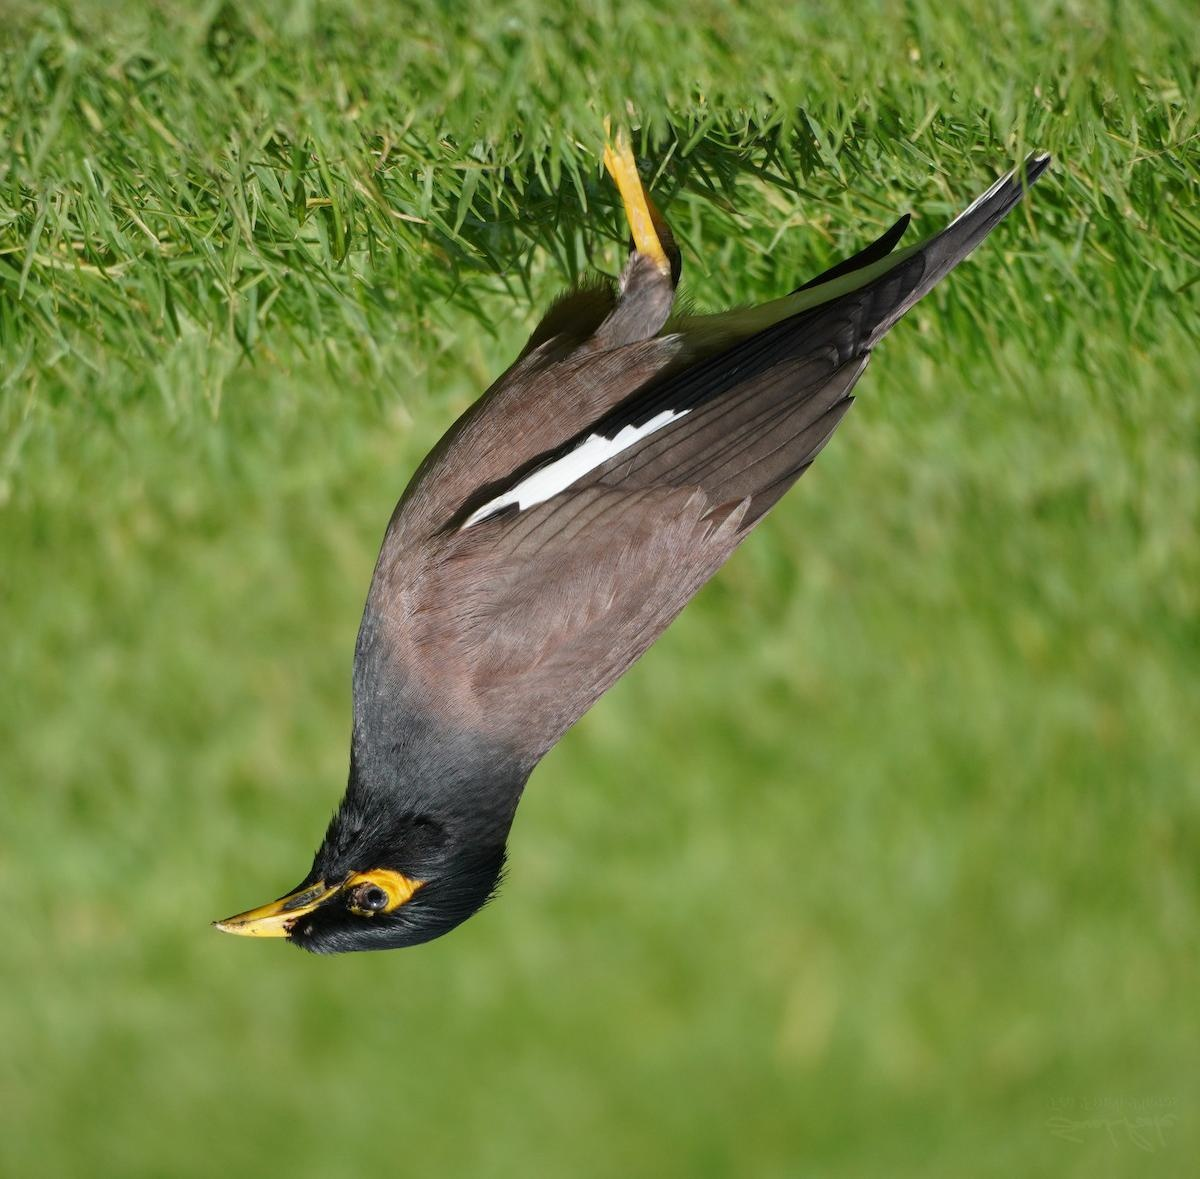myna: (208, 171, 925, 974)
